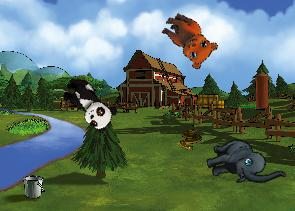bear: (152, 8, 222, 73)
elephant: (201, 125, 286, 203)
panda: (55, 72, 121, 135)
